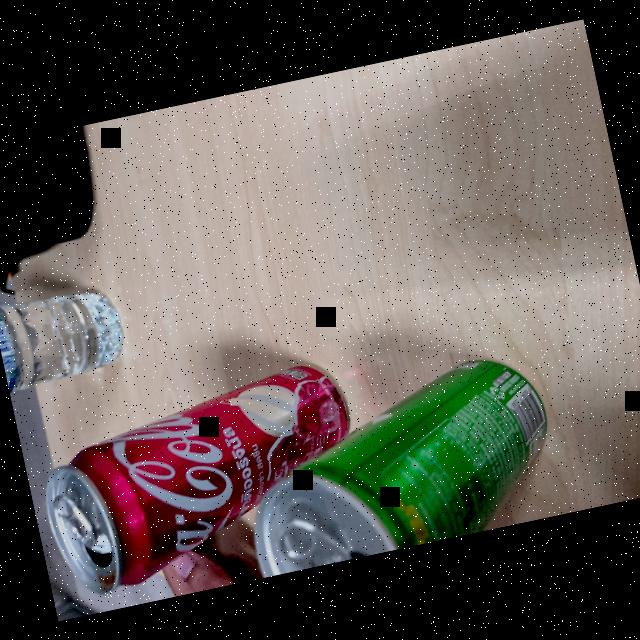can: (27, 356, 376, 604), (224, 342, 561, 578)
